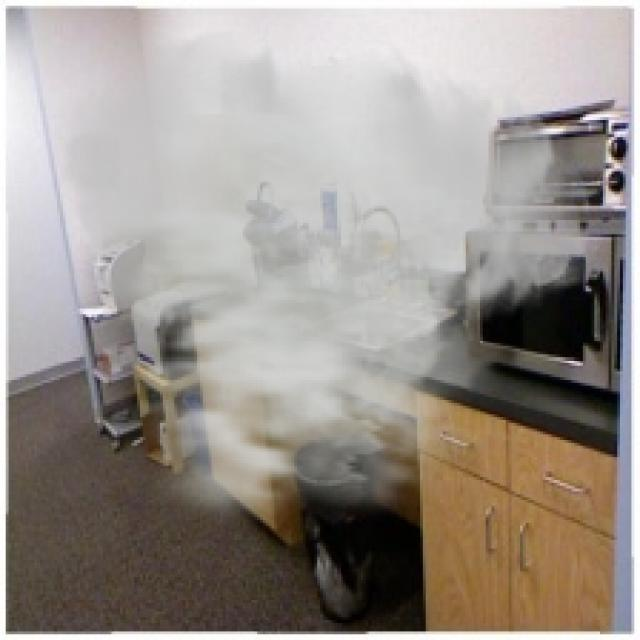Smoke: (48, 28, 598, 546)
